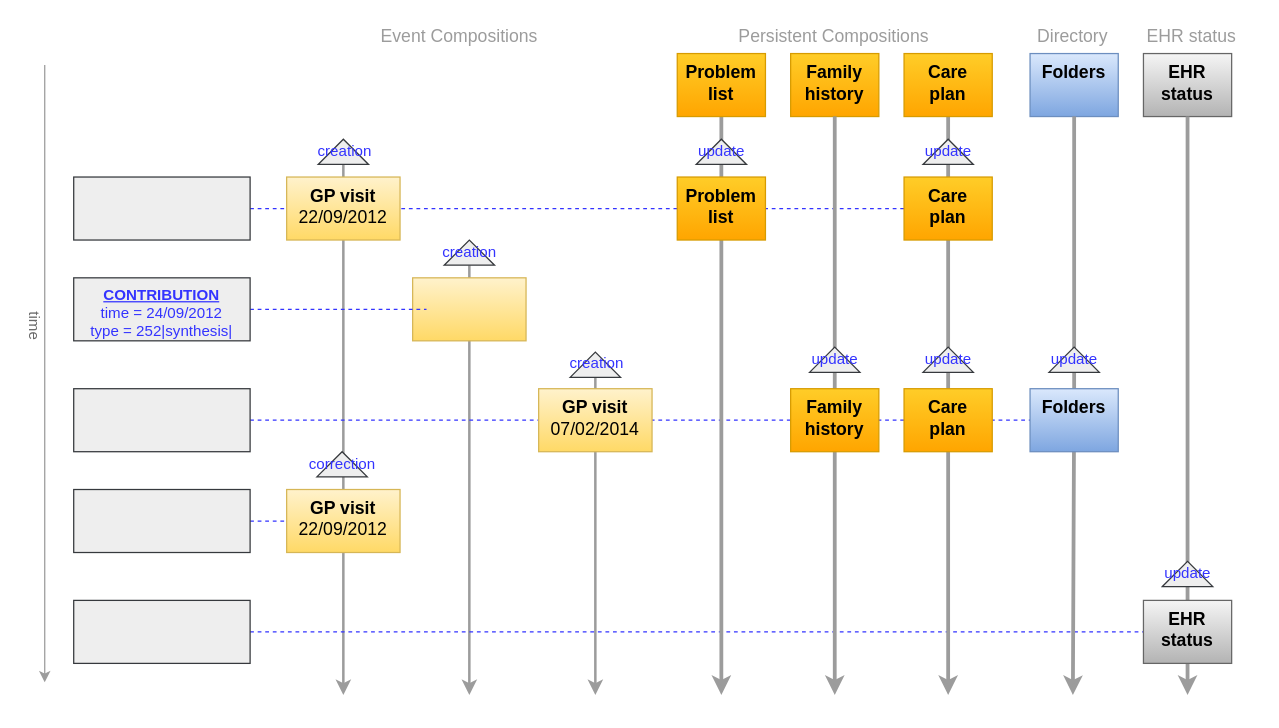
The diagram is 1279 pixels wide and 728 high, and some of its shapes have lost their labels. Here are the shapes that lost their labels. From the top down, the centre of each, then its label:
At (161,208): "CONTRIBUTION time = 22/09/2012 type = 251|modification|".
At (468,309): "Test results 24/09/2012".
At (161,419): "CONTRIBUTION time = 07/02/2014 type = 251|modification|".
At (161,520): "CONTRIBUTION time = 01/05/2014 type = 250|amendment|".
At (161,631): "CONTRIBUTION time = 01/06/2015 type = 251|modification|".
